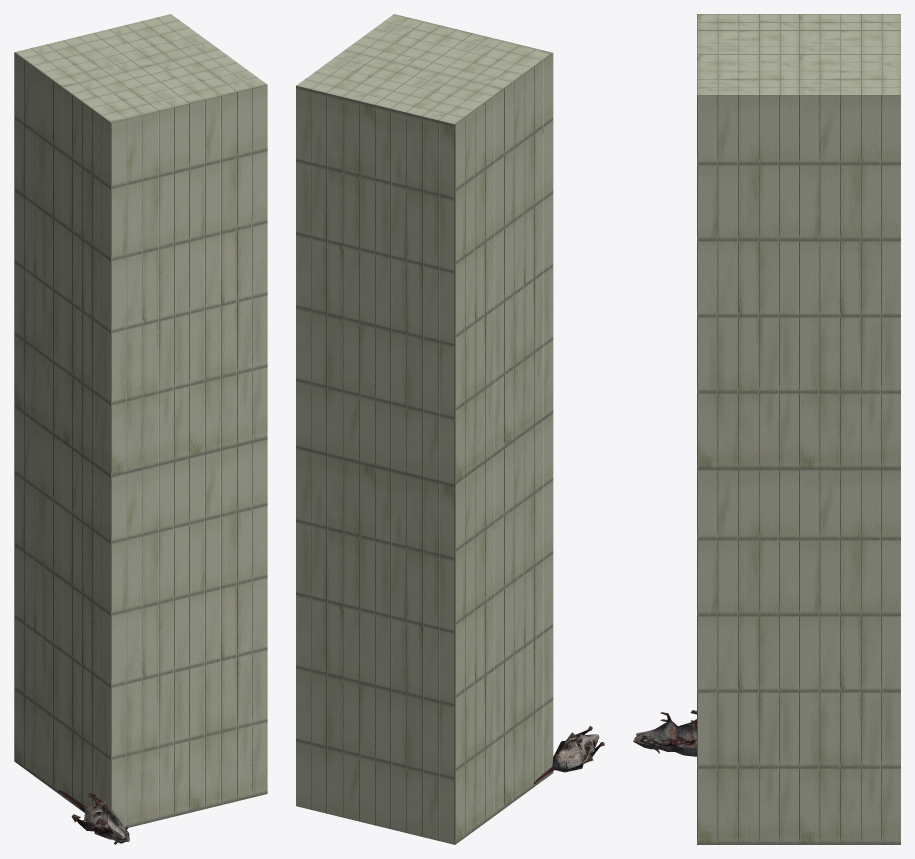
File: pillarA.fbx
The picture shows the model from 3 angles, left to right: view 1: azimuth 30°, elevation 25°; view 2: azimuth 150°, elevation 25°; view 3: azimuth 270°, elevation 25°; orthographic projection. The views are drawn at different scales.
Visible parts, largest first — view 1: pCube10, RE_O_zombi_Rat:None_None_None_None_Material_E04_00_NBD_000_p; view 2: pCube10, RE_O_zombi_Rat:None_None_None_None_Material_E04_00_NBD_000_p; view 3: pCube10, RE_O_zombi_Rat:None_None_None_None_Material_E04_00_NBD_000_p.
Part boxes in pixels (x1,y1,x2,y2): pCube10: (14, 14, 267, 827); RE_O_zombi_Rat:None_None_None_None_Material_E04_00_NBD_000_p: (58, 790, 129, 844); pCube10: (296, 14, 553, 844); RE_O_zombi_Rat:None_None_None_None_Material_E04_00_NBD_000_p: (533, 726, 604, 784); pCube10: (697, 14, 900, 844); RE_O_zombi_Rat:None_None_None_None_Material_E04_00_NBD_000_p: (633, 710, 696, 756).
Size of the model in its own units: 26.22 by 91.41 by 29.59.
Materials: 2 (2 with a texture image).
